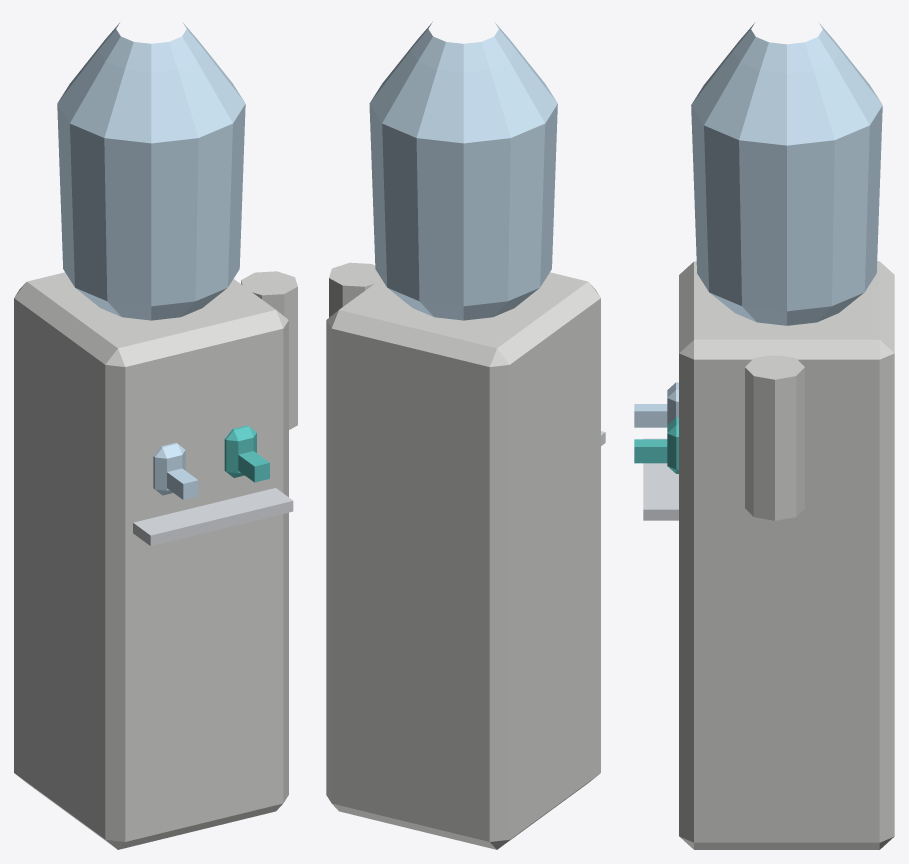
Rendered from medical-23635.glb.
The picture shows the model from 3 angles, left to right: view 1: azimuth 30°, elevation 25°; view 2: azimuth 150°, elevation 25°; view 3: azimuth 270°, elevation 25°; orthographic projection.
Visible parts, largest first — view 1: water-cooler; view 2: water-cooler; view 3: water-cooler.
Part boxes in pixels (x1,y1,x2,y2): water-cooler: (14, 22, 297, 849); water-cooler: (326, 22, 605, 849); water-cooler: (634, 22, 894, 849).
Size of the model in its own units: 0.45 by 1.44 by 0.435.
